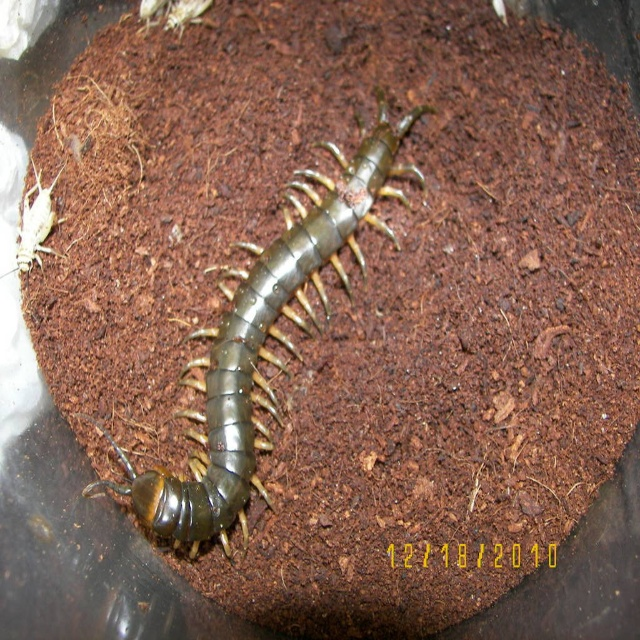Centipede: (71, 91, 437, 569)
